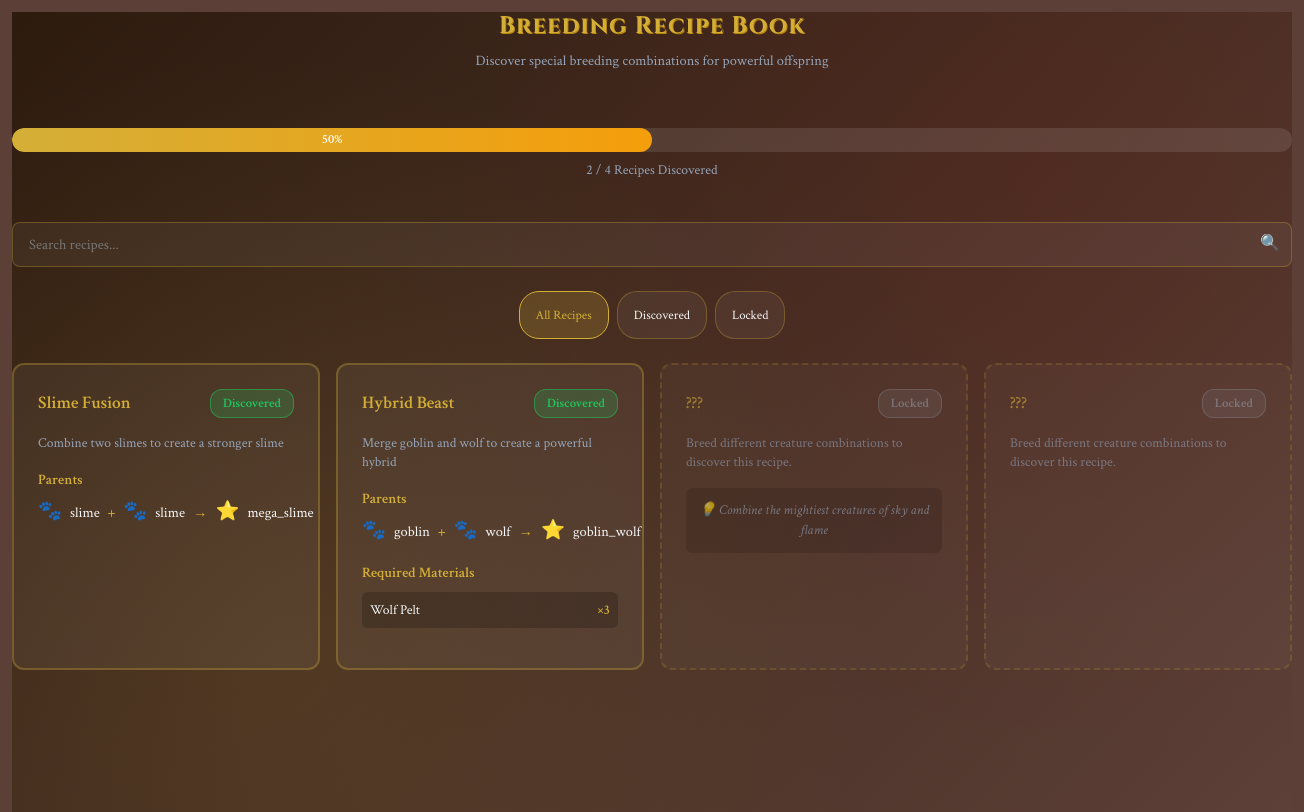
it: BreedingRecipeBook › Combined Filters › should apply both search and status filters
This screenshot has width=1304, height=812.
expect the text "Slime Fusion" is shown: met, box [38,390,131,416]
Note: Filter to discovered
Click the button "Discovered". click: x=662, y=315
box: [617,291,707,339]
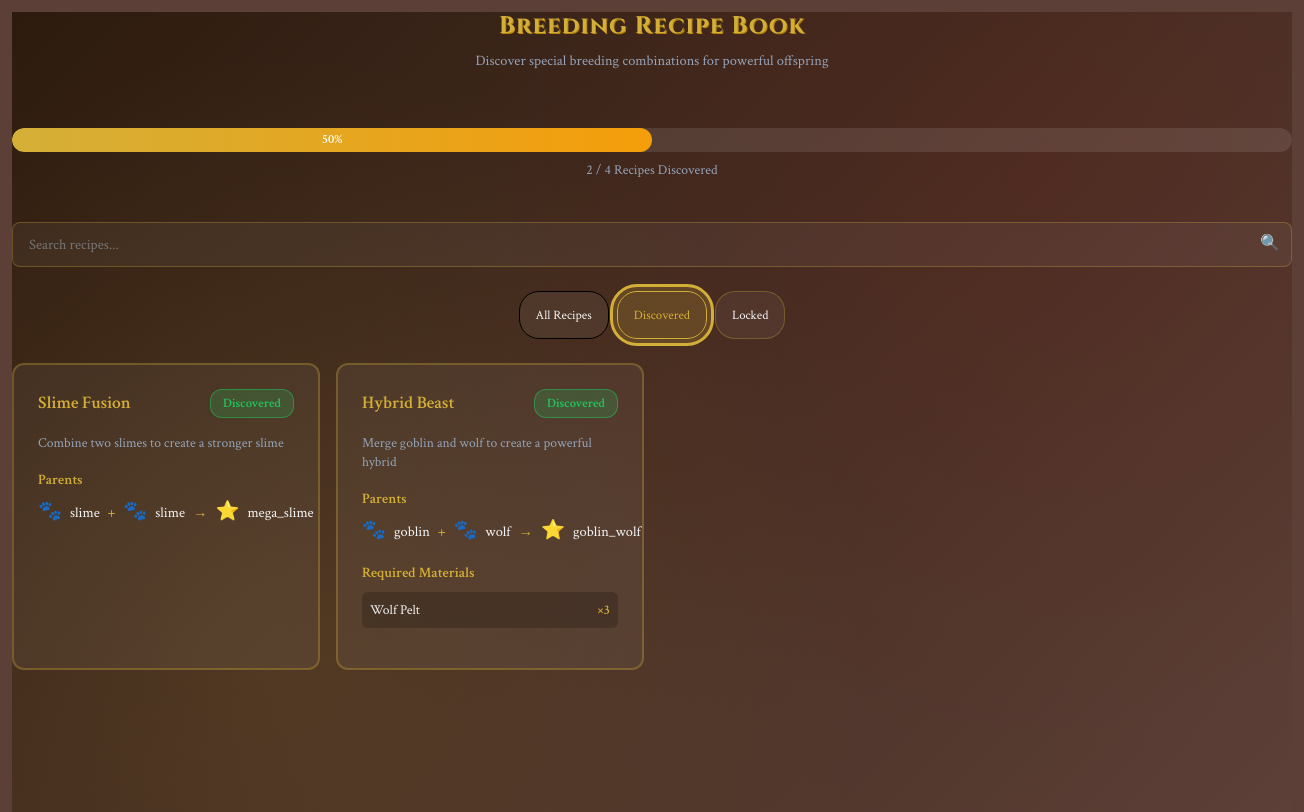
Note: Search for slime
Type "slime" into the field with placeholder "Search recipes...". click: x=652, y=244
box: [12,222,1292,267]
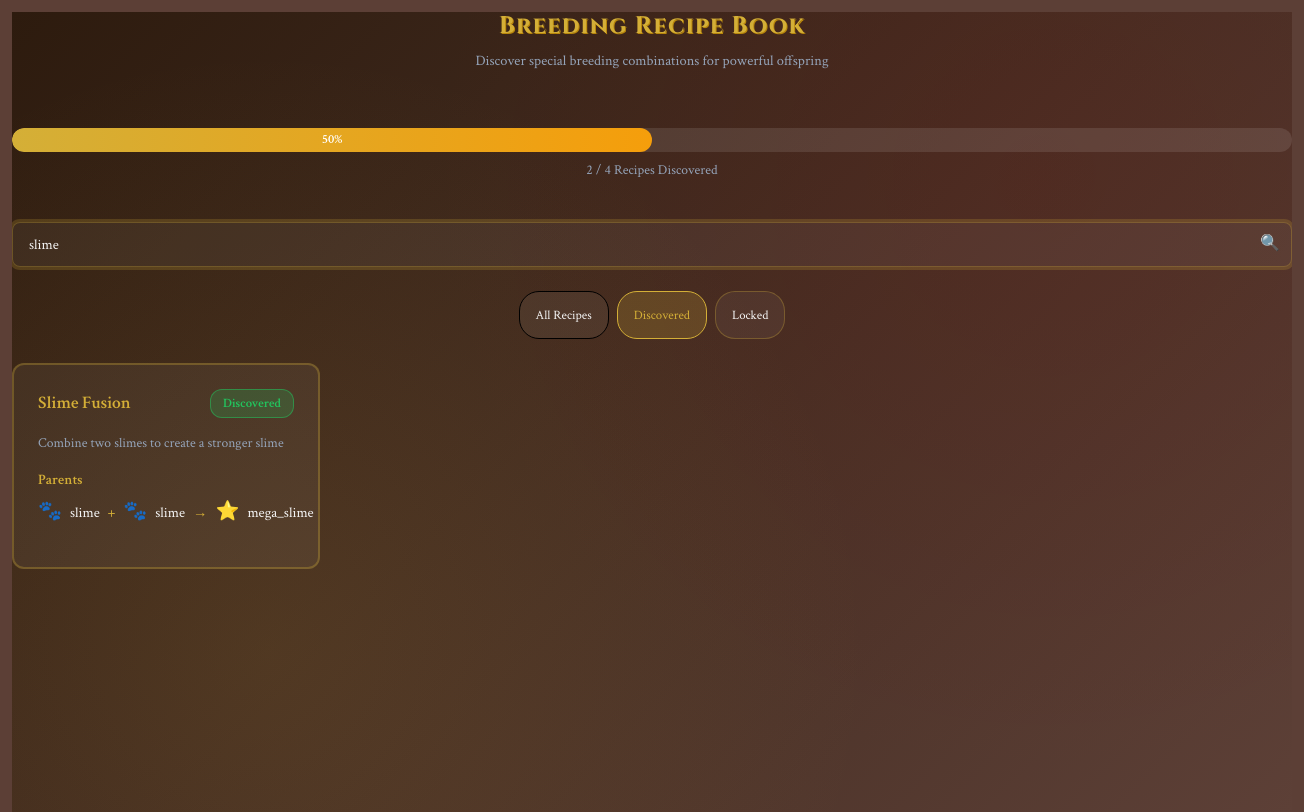
expect the text "Slime Fusion" is shown: met, box [38,390,131,416]
expect the text "Hybrid Beast" is gone: met
